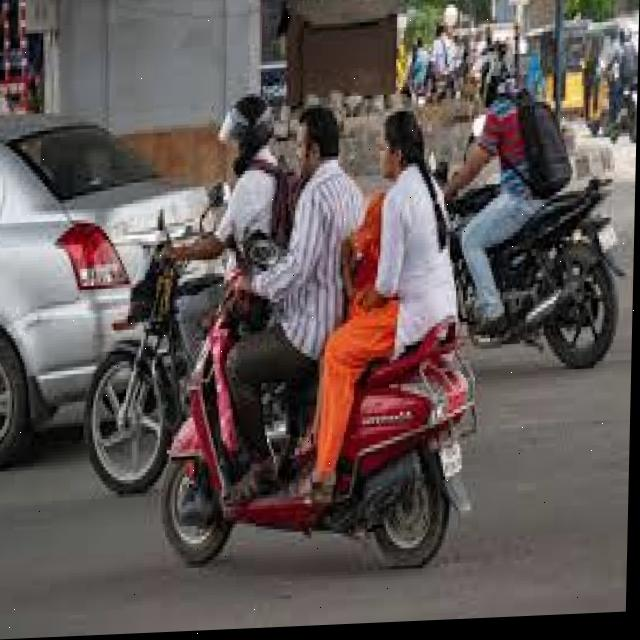without helmet: (374, 105, 426, 207), (289, 101, 348, 189)
